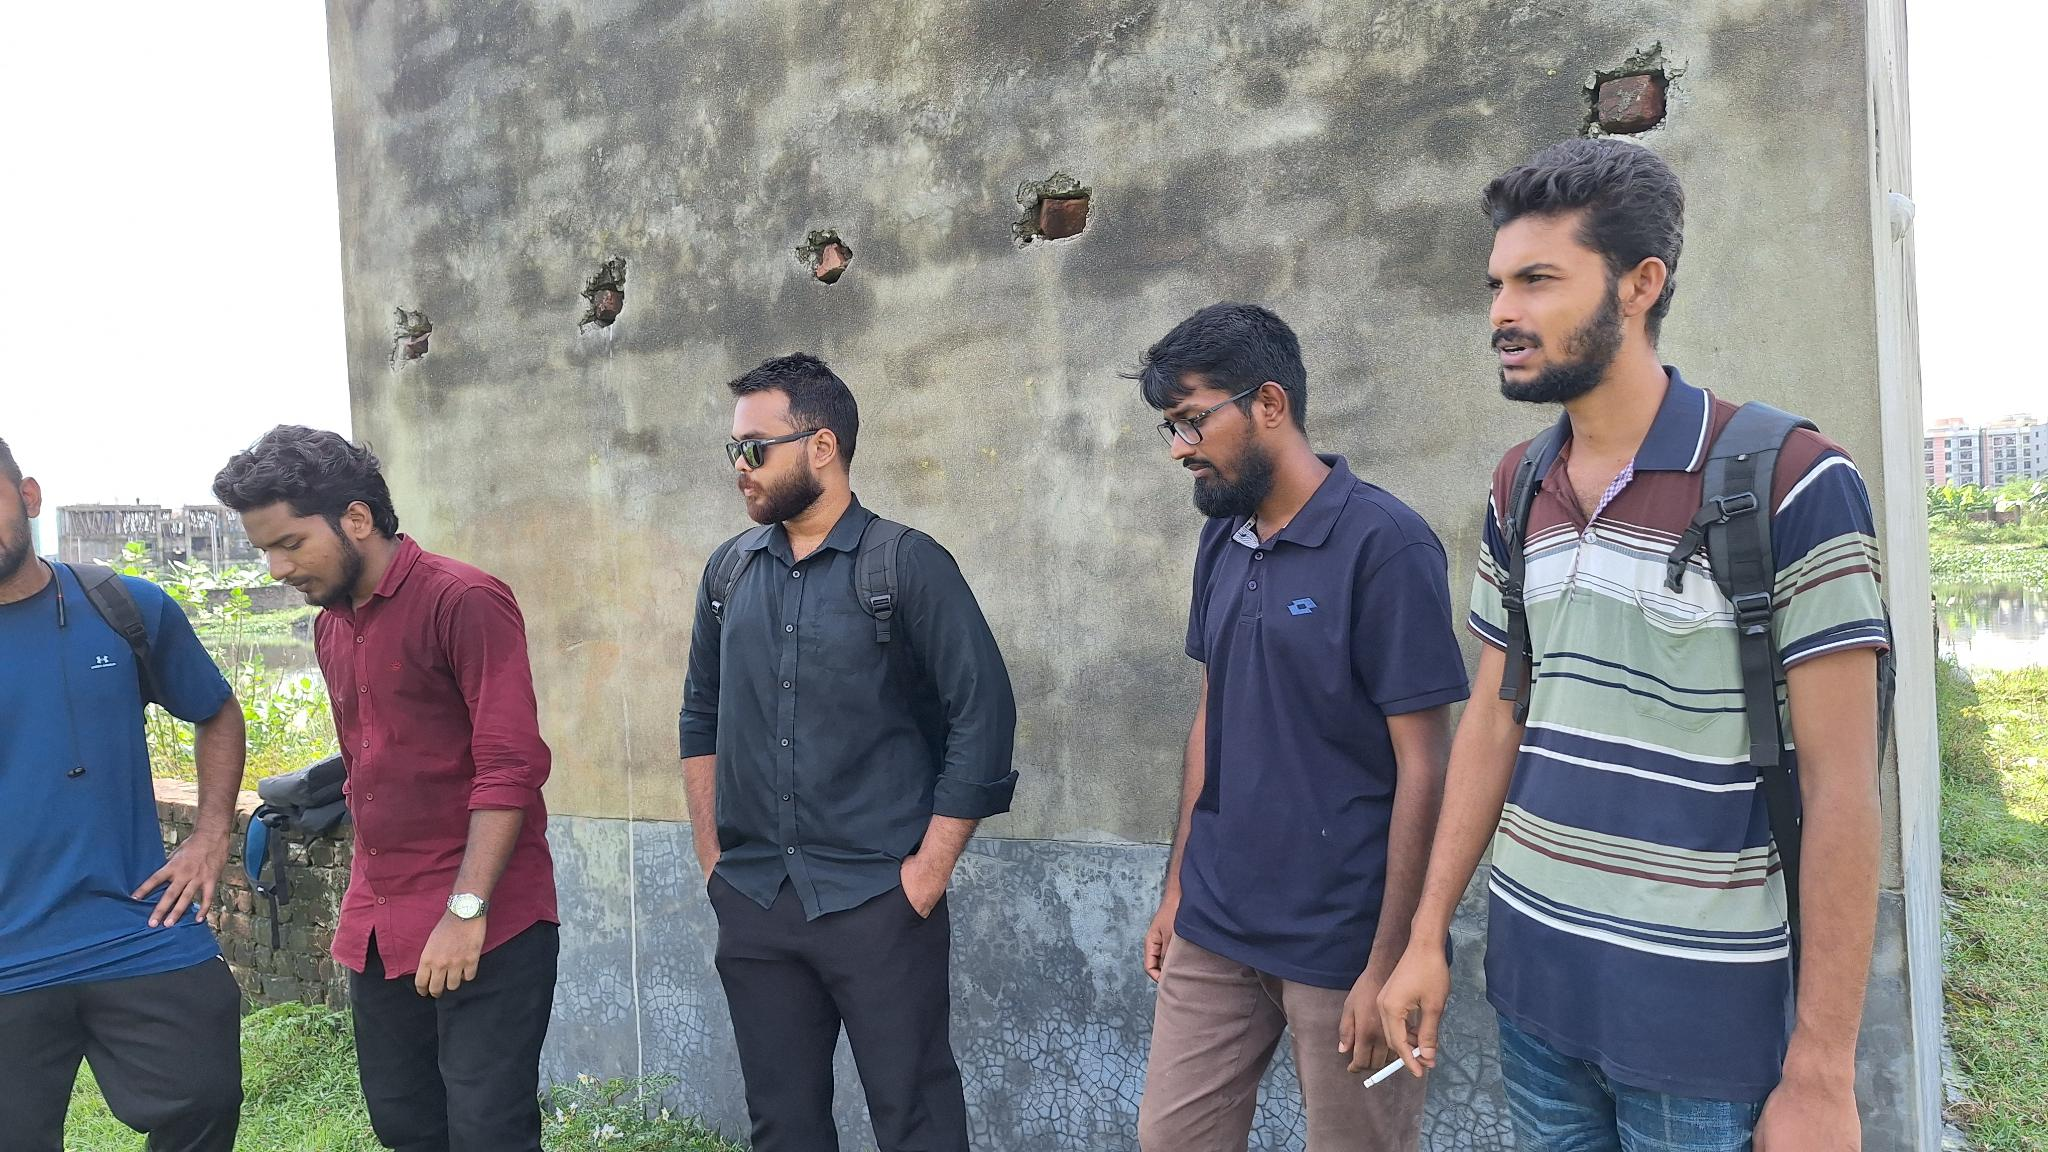cigarette: (1360, 1044, 1423, 1093)
nonSmoker: (1125, 300, 1470, 1152), (678, 347, 1023, 1152), (208, 428, 558, 1152), (0, 430, 246, 1152)
smoker: (1374, 141, 1892, 1152)
